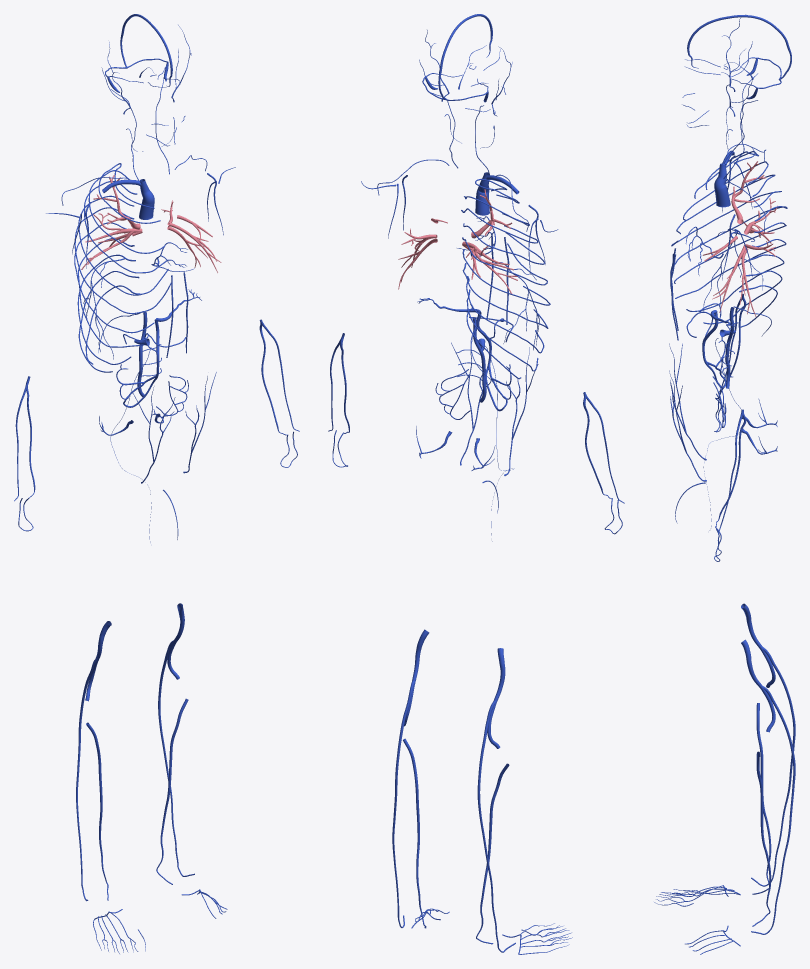
File: cardiovascular-3.glb
3 views of the same model, side by side, from view 1: azimuth 30°, elevation 25°; view 2: azimuth 150°, elevation 25°; view 3: azimuth 270°, elevation 25° (orthographic). The views are drawn at different scales.
Parts seen in each view (by area): view 1: Right superior intercostal vein, Small saphenous vein.l, Small saphenous vein.r; view 2: Right superior intercostal vein, Small saphenous vein.r, Small saphenous vein.l; view 3: Right superior intercostal vein, Small saphenous vein.l, Small saphenous vein.r, Posterior tibial veins.l, Posterior tibial veins.r, Superior sagittal sinus, Popliteal vein.l, Popliteal vein.r, Superior vein of left lung, Right ascending lumbar vein.
Boxes of the visible parts, x1=… form: Right superior intercostal vein: x1=74, y1=163, x2=171, y2=372; Small saphenous vein.l: x1=158, y1=640, x2=194, y2=876; Small saphenous vein.r: x1=76, y1=660, x2=94, y2=901; Right superior intercostal vein: x1=461, y1=178, x2=550, y2=379; Small saphenous vein.r: x1=477, y1=700, x2=515, y2=952; Small saphenous vein.l: x1=392, y1=680, x2=414, y2=927; Right superior intercostal vein: x1=671, y1=151, x2=787, y2=327; Small saphenous vein.l: x1=751, y1=686, x2=795, y2=934; Small saphenous vein.r: x1=751, y1=647, x2=795, y2=886; Posterior tibial veins.l: x1=752, y1=751, x2=771, y2=926; Posterior tibial veins.r: x1=752, y1=703, x2=771, y2=894; Superior sagittal sinus: x1=687, y1=15, x2=791, y2=79; Popliteal vein.l: x1=741, y1=639, x2=775, y2=732; Popliteal vein.r: x1=741, y1=603, x2=775, y2=687; Superior vein of left lung: x1=712, y1=241, x2=775, y2=312; Right ascending lumbar vein: x1=722, y1=307, x2=734, y2=388.
Size of the model in its own units: 0.5673 by 1.7 by 0.2404.
